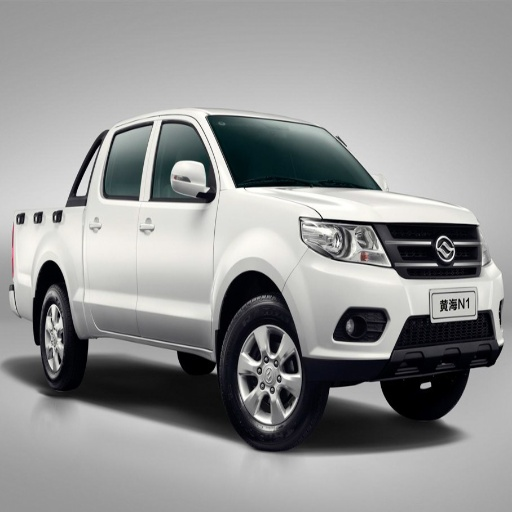back_left_light: (75, 119, 158, 334)
back_right_light: (289, 223, 511, 374)
front_bumper: (208, 116, 380, 188)
front_left_light: (137, 117, 217, 347)
front_right_door: (300, 217, 388, 266)
front_right_light: (260, 188, 492, 221)
tailgate: (26, 222, 71, 287)
trunk: (221, 296, 327, 450), (37, 284, 86, 393), (384, 375, 465, 418)
